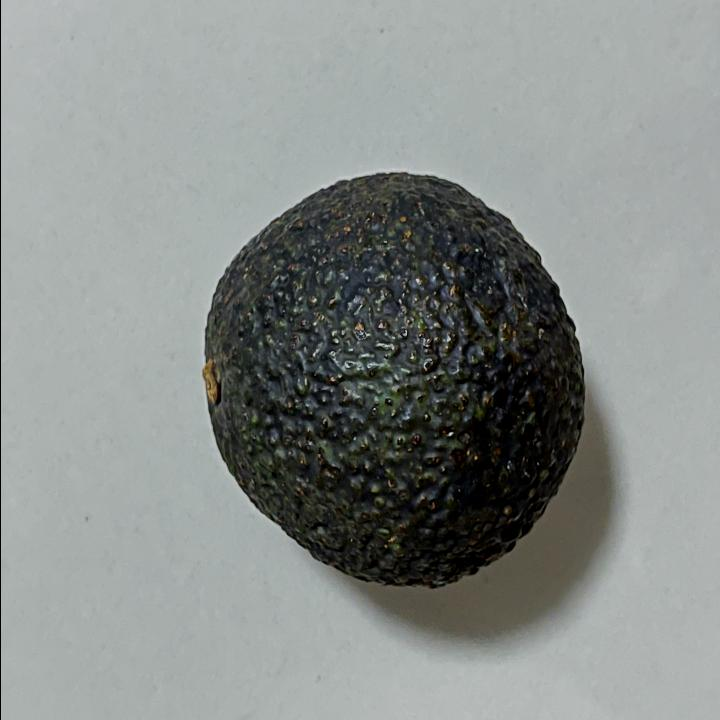Level1: (187, 166, 599, 598)
